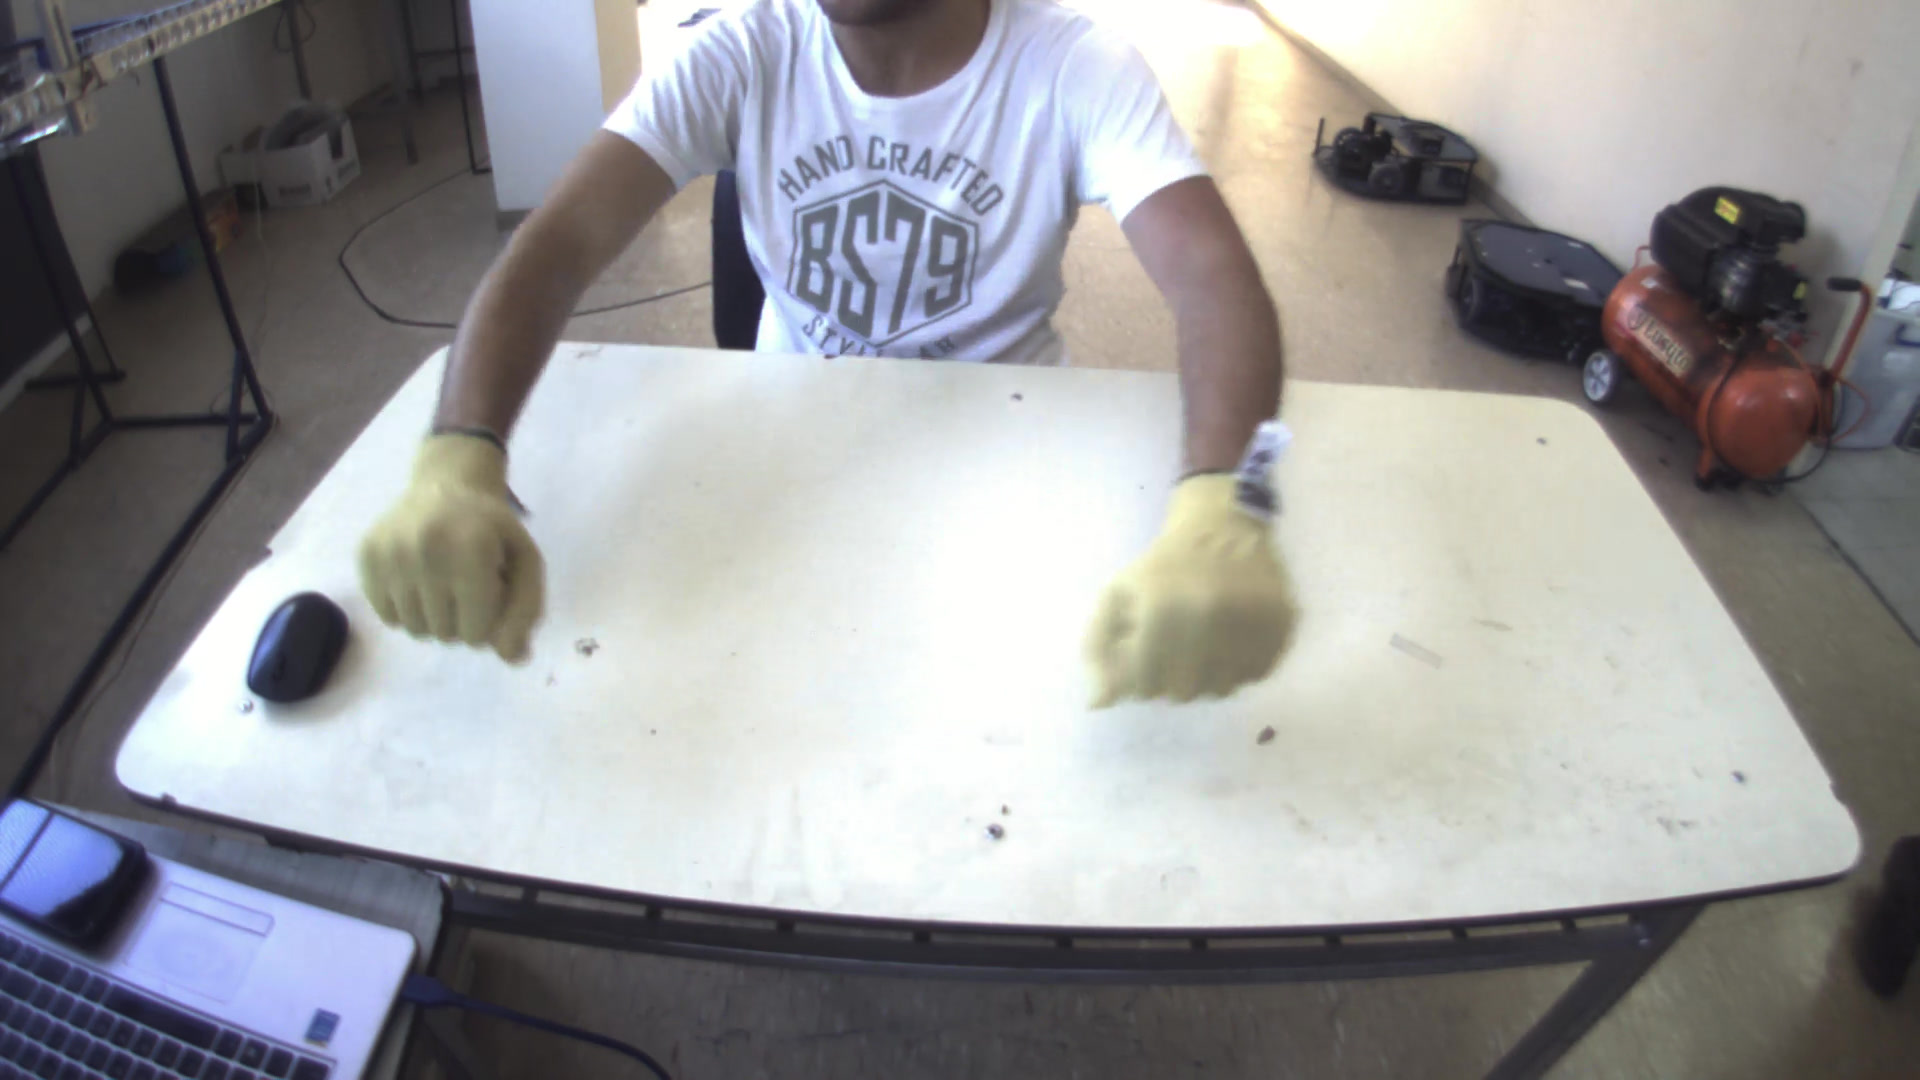hand: (1071, 469, 1309, 713), (342, 411, 547, 663)
